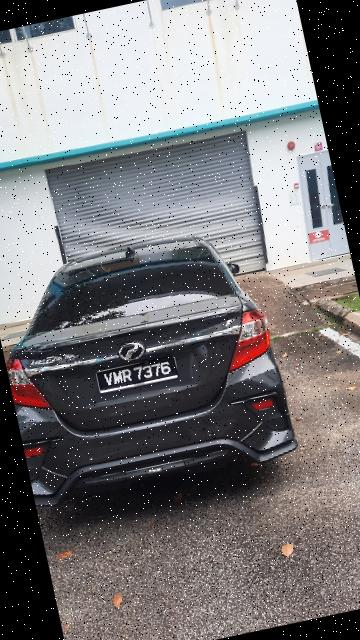License_Plate: (94, 352, 184, 399)
car: (1, 218, 305, 516)
